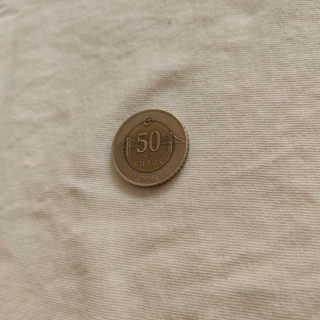50KURUS: (109, 107, 190, 189)
